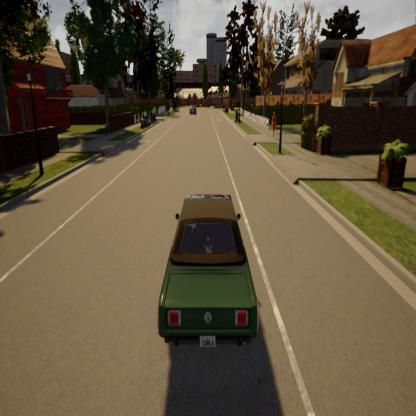Cars: (158, 192, 259, 352), (189, 102, 198, 116)
Pedestrian: (272, 109, 276, 137)
